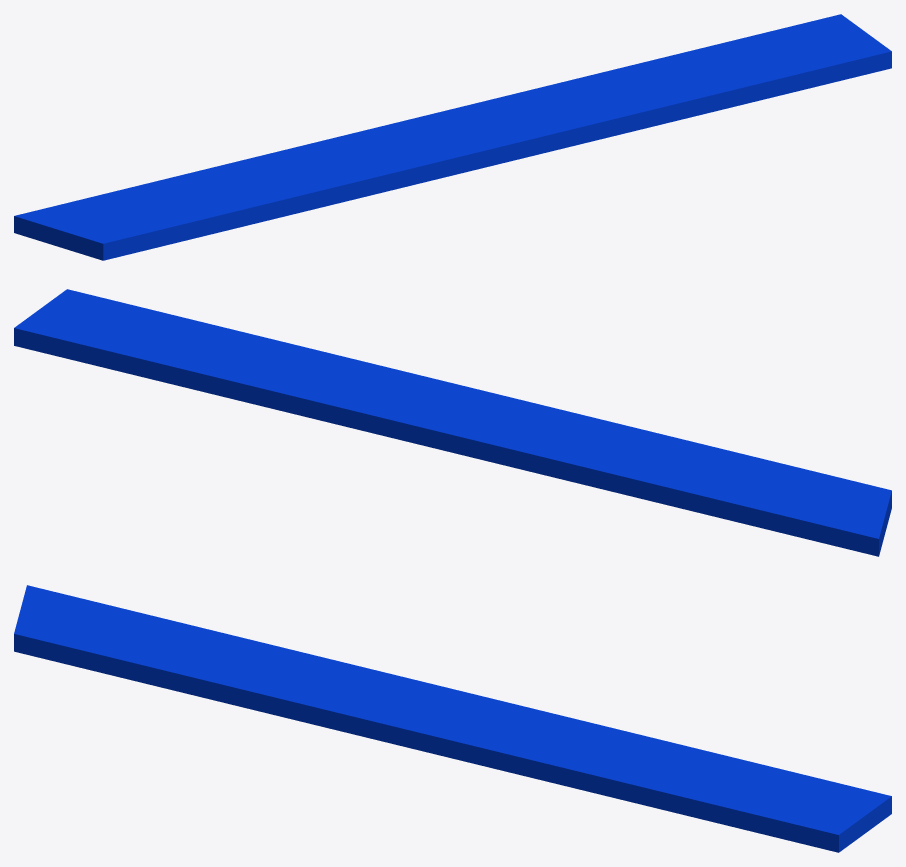
Rendered from Board_01.fbx.
The picture shows the model from 3 angles, top to bottom: view 1: azimuth 30°, elevation 25°; view 2: azimuth 150°, elevation 25°; view 3: azimuth 330°, elevation 25°; orthographic projection. The views are drawn at different scales.
Visible parts, largest first — view 1: Board_01; view 2: Board_01; view 3: Board_01.
Part boxes in pixels (bbox=[...]): Board_01: bbox=[14, 14, 891, 260]; Board_01: bbox=[14, 289, 891, 556]; Board_01: bbox=[14, 585, 891, 852].
Size of the model in its own units: 186 by 3.65 by 19.8.
